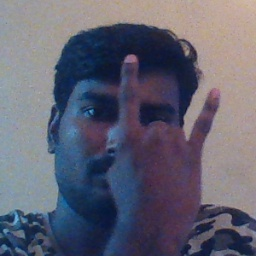V: (104, 52, 230, 226)
